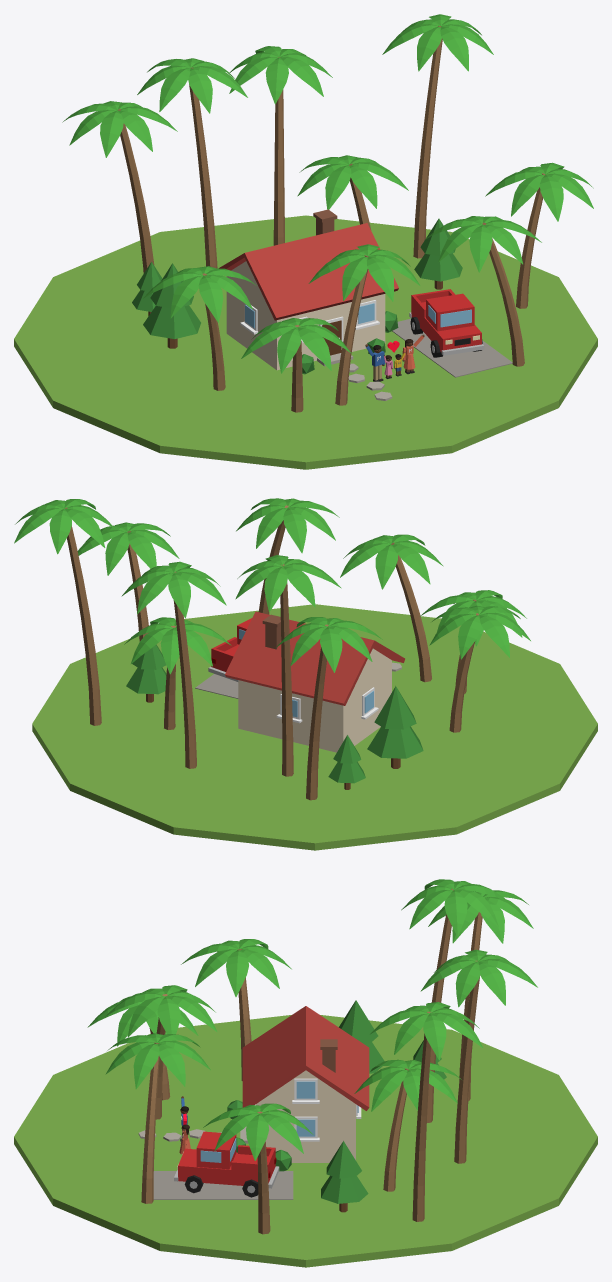
File: island.glb
3 views of the same model, one above another, from view 1: azimuth 30°, elevation 25°; view 2: azimuth 150°, elevation 25°; view 3: azimuth 270°, elevation 25° (orthographic). The views are drawn at different scales.
Parts seen in each view (by area): view 1: Ground, Roof, Walls, Palm 7 Trunk, Driveway, Palm 4 Trunk, Palm 5 Trunk, Palm 6 Trunk, Tree 1 Leaves Low, Palm 10 Trunk, Palm 9 Trunk, Palm 8 Trunk (+26 smaller); view 2: Ground, Walls, Roof, Palm 7 Trunk, Palm 4 Trunk, Palm 5 Trunk, Palm 6 Trunk, Tree 1 Leaves Low, Palm 9 Trunk, Tree 1 Leaves High, Palm 1 Trunk, Tree 2 Leaves Low (+30 smaller); view 3: Ground, Roof, Walls, Driveway, Palm 7 Trunk, Palm 5 Trunk, Truck Body, Palm 10 Trunk, Palm 3 Trunk, Tree 2 Leaves Low, Palm 4 Trunk, Palm 8 Trunk (+25 smaller).
Part boxes in pixels (x1,y1,x2,y2): Ground: [14, 215, 597, 469]; Roof: [219, 223, 398, 320]; Walls: [226, 261, 385, 370]; Palm 7 Trunk: [413, 26, 442, 258]; Driveway: [392, 318, 512, 377]; Palm 4 Trunk: [189, 67, 217, 268]; Palm 5 Trunk: [273, 57, 284, 245]; Palm 6 Trunk: [118, 109, 154, 273]; Tree 1 Leaves Low: [143, 305, 200, 339]; Palm 10 Trunk: [482, 222, 524, 366]; Palm 9 Trunk: [335, 255, 368, 405]; Palm 8 Trunk: [516, 173, 545, 308]; Ground: [32, 604, 597, 850]; Walls: [238, 648, 391, 752]; Roof: [225, 611, 404, 705]; Palm 7 Trunk: [65, 507, 101, 725]; Palm 4 Trunk: [280, 564, 293, 776]; Palm 5 Trunk: [173, 571, 196, 768]; Palm 6 Trunk: [306, 624, 328, 800]; Tree 1 Leaves Low: [367, 726, 423, 758]; Palm 9 Trunk: [391, 542, 431, 682]; Tree 1 Leaves High: [374, 686, 416, 729]; Palm 1 Trunk: [449, 613, 478, 732]; Tree 2 Leaves Low: [126, 667, 166, 694]; Ground: [14, 1015, 597, 1267]; Roof: [242, 1006, 369, 1110]; Walls: [256, 1070, 355, 1162]; Driveway: [153, 1171, 293, 1199]; Palm 7 Trunk: [412, 1011, 431, 1221]; Palm 5 Trunk: [454, 960, 480, 1163]; Truck Body: [178, 1148, 275, 1185]; Palm 10 Trunk: [141, 1042, 159, 1203]; Palm 3 Trunk: [383, 1068, 408, 1191]; Tree 2 Leaves Low: [321, 1175, 368, 1203]; Palm 4 Trunk: [427, 889, 453, 1122]; Palm 8 Trunk: [257, 1111, 270, 1234].
Bounding box in the file's own units: 14.29 × 6.25 × 14.
